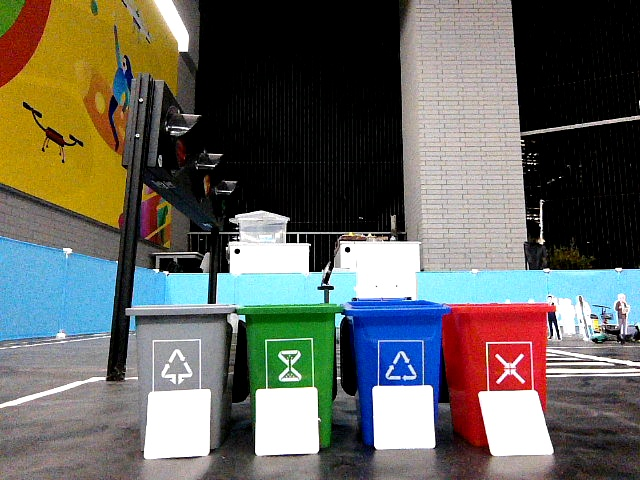blue_open: (353, 297, 436, 382)
green_open: (249, 304, 332, 385)
grey_open: (137, 304, 227, 386)
red_open: (456, 302, 542, 388)
